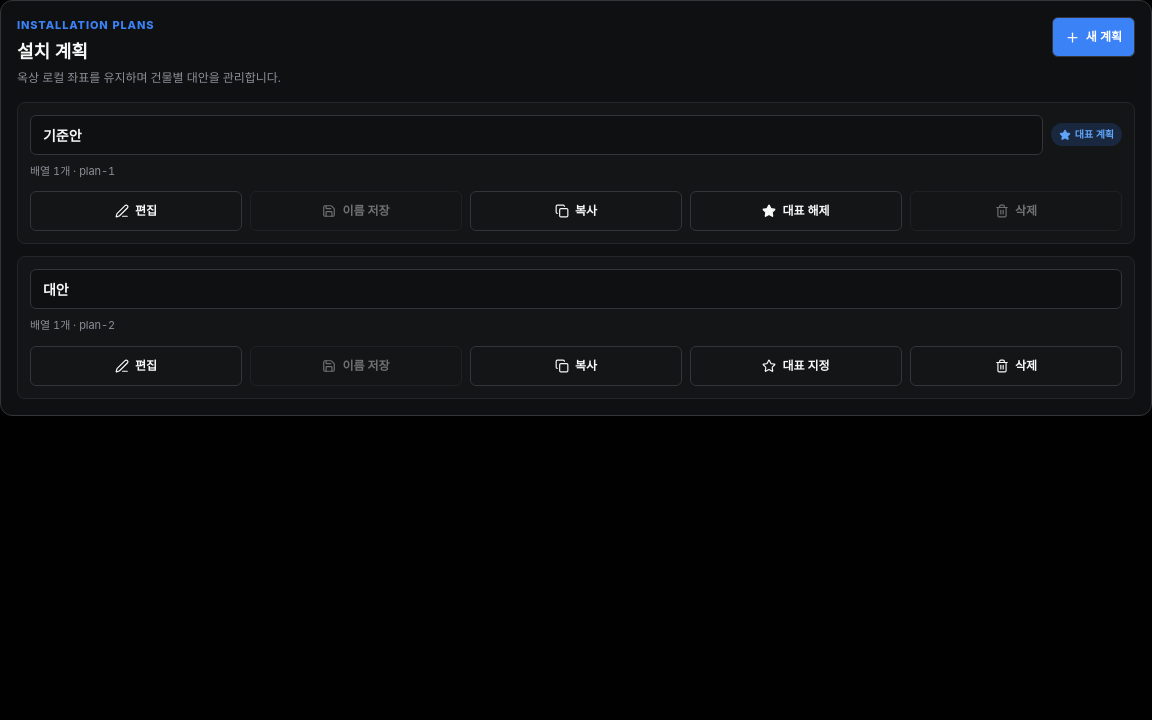
Test: InstallationPlanManager › reports recoverable action failures
Expected: the field named "기준안 계획 이름" is shown, [30,114,1043,154]
Step 1. Click the button with aria-label "대안 삭제" → [1016, 366], box [910,346,1122,386]
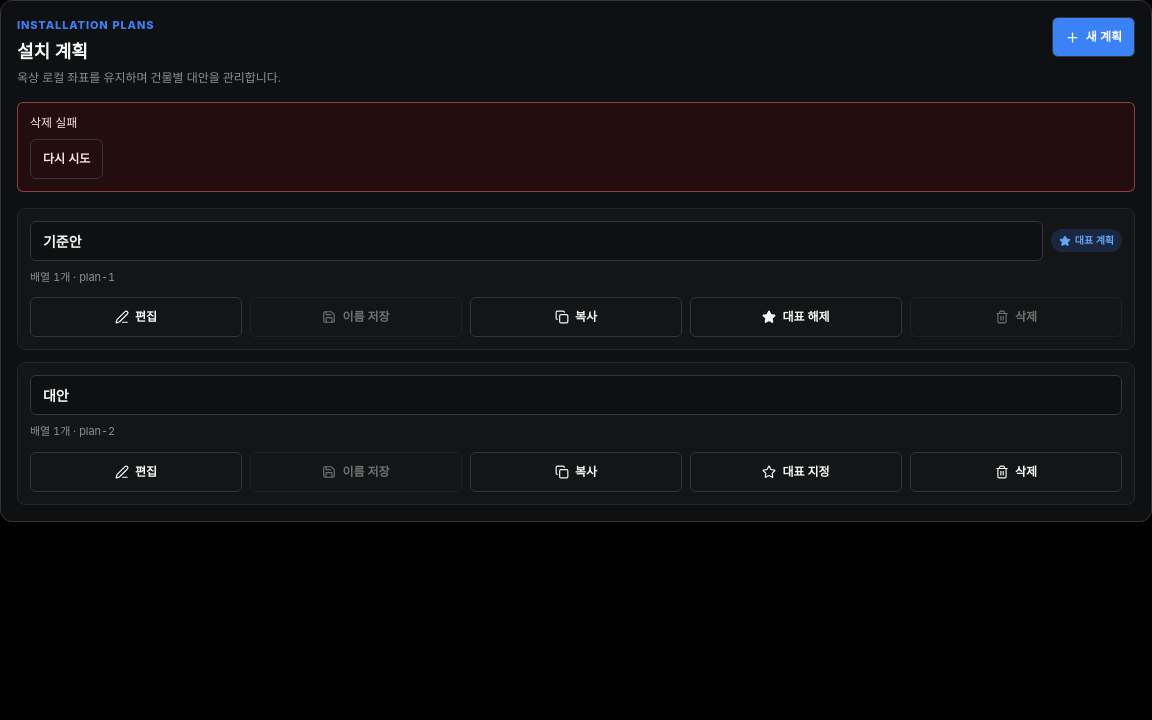
Expected: the message shows "삭제 실패", [30,114,77,130]
